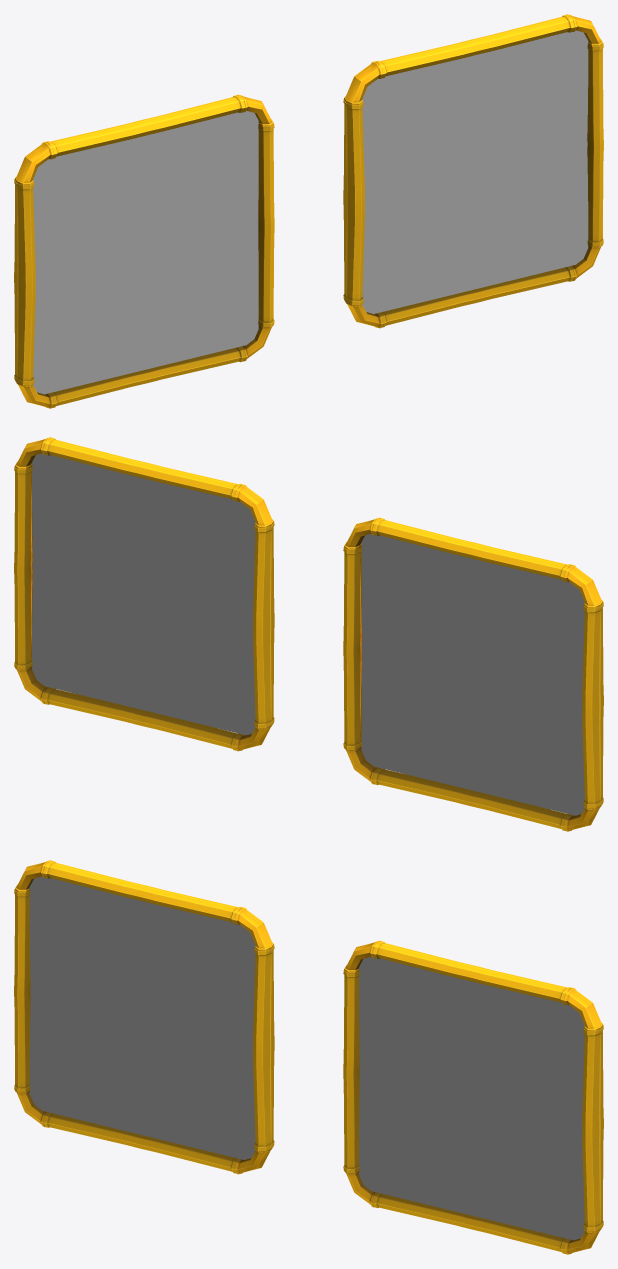
The model's file is scene_spot_the_difference.gltf.
3 renders of one model, top to bottom at view 1: azimuth 30°, elevation 25°; view 2: azimuth 150°, elevation 25°; view 3: azimuth 330°, elevation 25°, orthographic.
Visible parts, largest first — view 1: obj_image.001, obj_image, obj_display_base, obj_display_base.001; view 2: obj_image, obj_image.001, obj_display_base, obj_display_base.001; view 3: obj_image, obj_image.001, obj_display_base.001, obj_display_base.
Part boxes in pixels (x1,y1,x2,y2): obj_image.001: [362, 30, 588, 313]; obj_image: [33, 110, 258, 394]; obj_display_base: [14, 94, 274, 408]; obj_display_base.001: [343, 14, 603, 328]; obj_image: [361, 533, 584, 815]; obj_image.001: [32, 453, 255, 735]; obj_display_base: [343, 517, 603, 831]; obj_display_base.001: [14, 437, 274, 751]; obj_image: [29, 876, 255, 1159]; obj_image.001: [359, 956, 584, 1240]; obj_display_base.001: [343, 940, 603, 1254]; obj_display_base: [14, 860, 274, 1174].
Bounding box in the file's own units: 4.27 × 1.85 × 0.1901.
2 materials, 1 textured.
